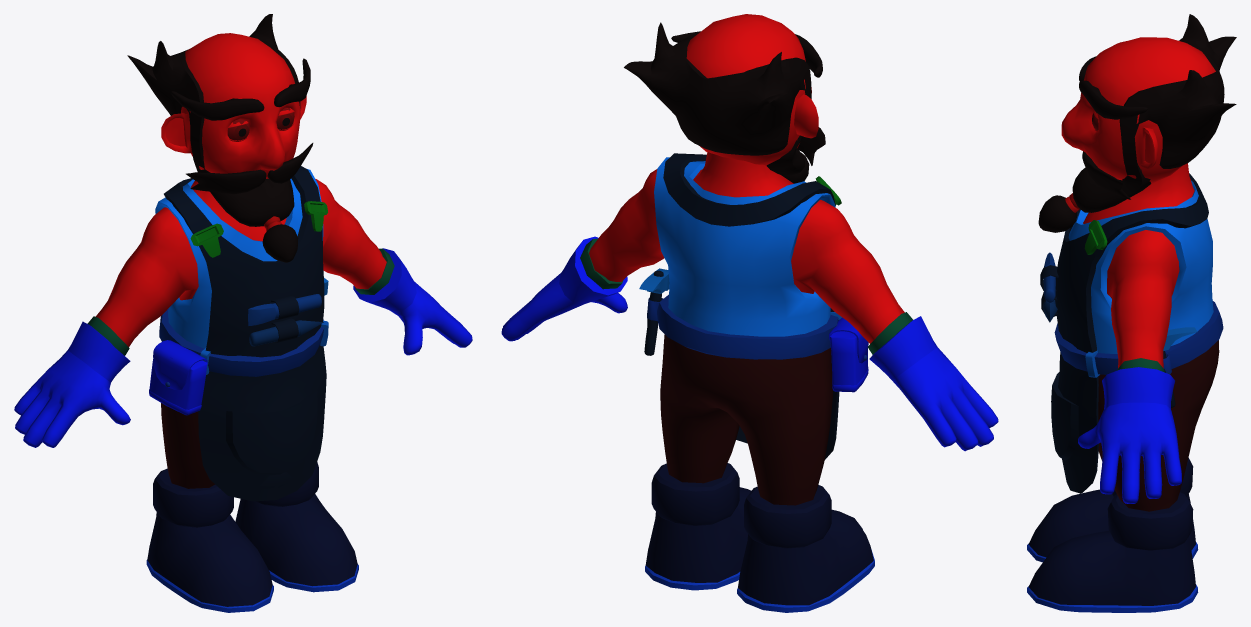
The model's file is SeriusLow.fbx.
3 views of the same model, side by side, from view 1: azimuth 30°, elevation 25°; view 2: azimuth 150°, elevation 25°; view 3: azimuth 270°, elevation 25° (orthographic). The views are drawn at different scales.
Visible parts, largest first — view 1: Avental_low, Corpo_low, Cabeça_low, Bota_low, Cinto_low, Blusa_low; view 2: Corpo_low, Bota_low, Cabeça_low, Blusa_low, Cinto_low, Avental_low; view 3: Corpo_low, Cabeça_low, Bota_low, Avental_low, Blusa_low, Cinto_low.
Boxes of the visible parts, left/top/right/bottom form: Avental_low: left=164, top=166, right=328, bottom=501; Corpo_low: left=14, top=179, right=472, bottom=488; Cabeça_low: left=127, top=14, right=313, bottom=262; Bota_low: left=146, top=462, right=358, bottom=612; Cinto_low: left=149, top=278, right=328, bottom=415; Blusa_low: left=155, top=168, right=323, bottom=348; Corpo_low: left=501, top=152, right=998, bottom=505; Bota_low: left=645, top=463, right=874, bottom=612; Cabeça_low: left=624, top=14, right=825, bottom=183; Blusa_low: left=654, top=157, right=835, bottom=336; Cinto_low: left=639, top=268, right=868, bottom=392; Avental_low: left=663, top=153, right=841, bottom=459; Corpo_low: left=1078, top=163, right=1219, bottom=511; Cabeça_low: left=1038, top=14, right=1236, bottom=232; Bota_low: left=1027, top=458, right=1198, bottom=612; Avental_low: left=1040, top=173, right=1208, bottom=493; Blusa_low: left=1068, top=180, right=1213, bottom=353; Cinto_low: left=1054, top=301, right=1223, bottom=407.
Bounding box in the file's own units: 158 × 176 × 63.15.
